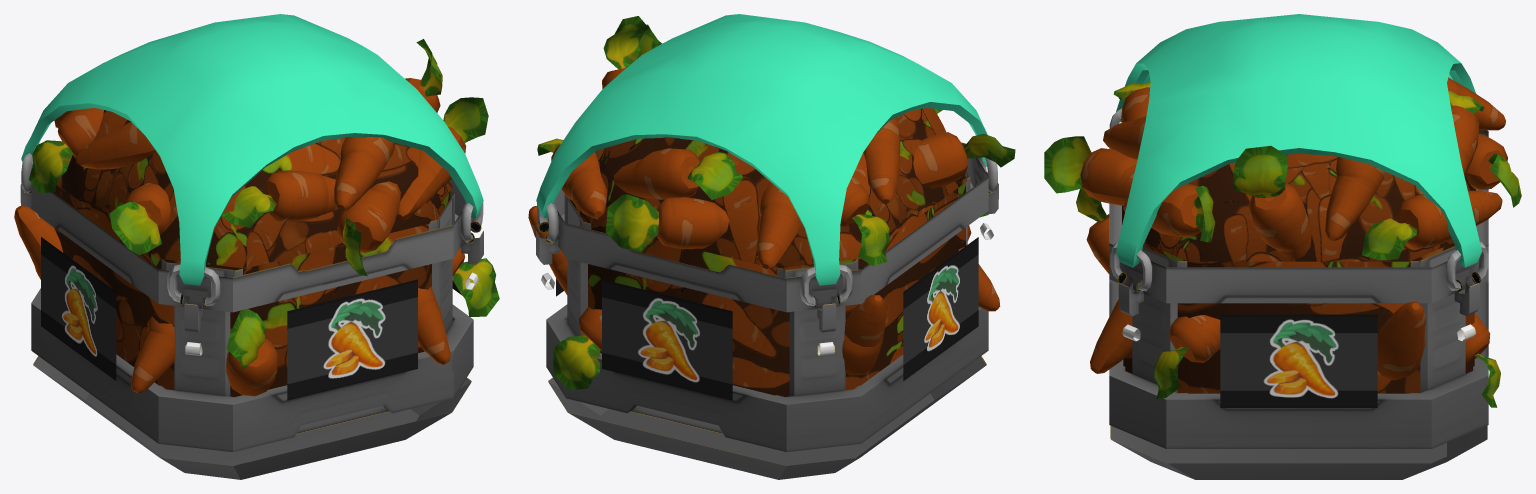
Rendered from obj_containers_carrotcrate.fbx.
The picture shows the model from 3 angles, left to right: view 1: azimuth 30°, elevation 25°; view 2: azimuth 150°, elevation 25°; view 3: azimuth 270°, elevation 25°; orthographic projection. The views are drawn at different scales.
Visible parts, largest first — view 1: obj_containers_carrotcrate; view 2: obj_containers_carrotcrate; view 3: obj_containers_carrotcrate.
Boxes of the visible parts, left/top/right/bottom form: obj_containers_carrotcrate: left=14, top=14, right=499, bottom=479; obj_containers_carrotcrate: left=528, top=14, right=1015, bottom=479; obj_containers_carrotcrate: left=1044, top=14, right=1521, bottom=479.
Bounding box in the file's own units: 8.57 × 7.82 × 8.81.
